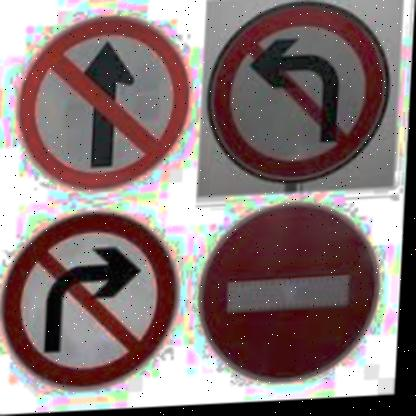No right turn: (1, 209, 187, 391)
